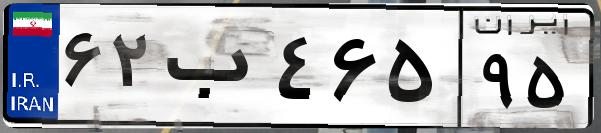2: (110, 28, 158, 98)
4: (270, 28, 330, 110)
5: (385, 28, 445, 110), (525, 38, 570, 115)
6: (330, 28, 385, 110), (57, 26, 110, 100)
9: (475, 38, 525, 113)
ب: (158, 20, 270, 120)
